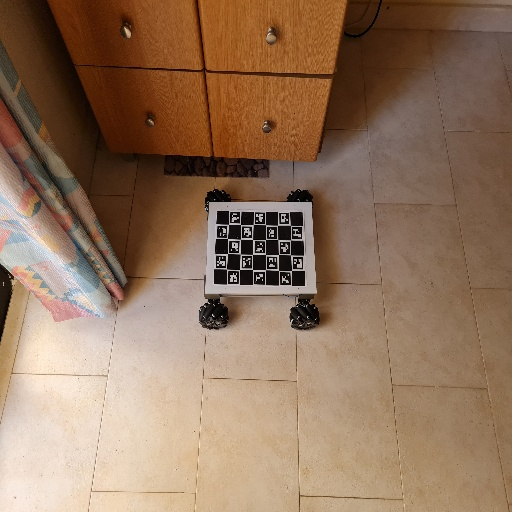Omniwheel: (197, 188, 320, 331)
